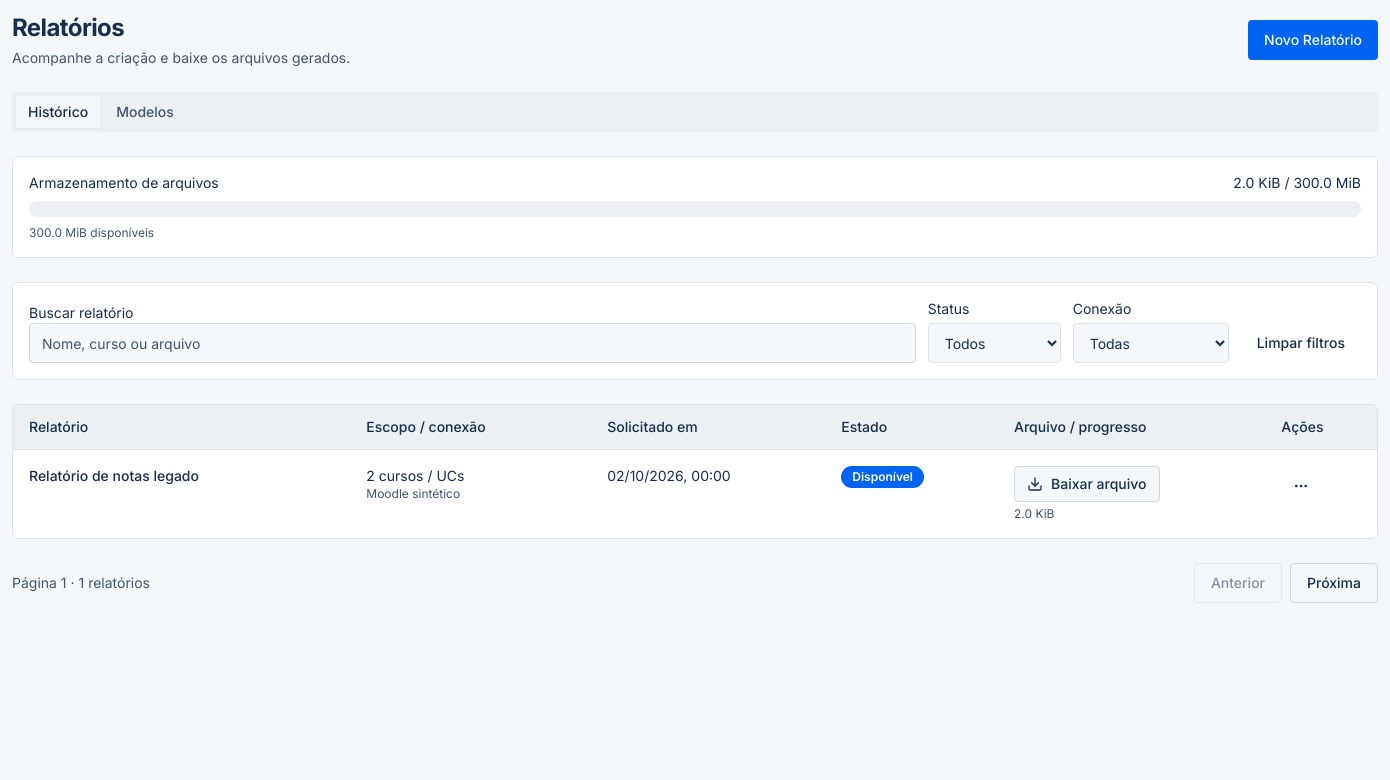
Test case: histórico privado › paginates on the server and resets the page when status, search or connection changes
This screenshot has width=1390, height=780.
Check: the text "Relatório de notas legado" is shown, box 29,467 -> 199,484
Click the button "Próxima" at (1334, 583), box 1290,563 -> 1378,603
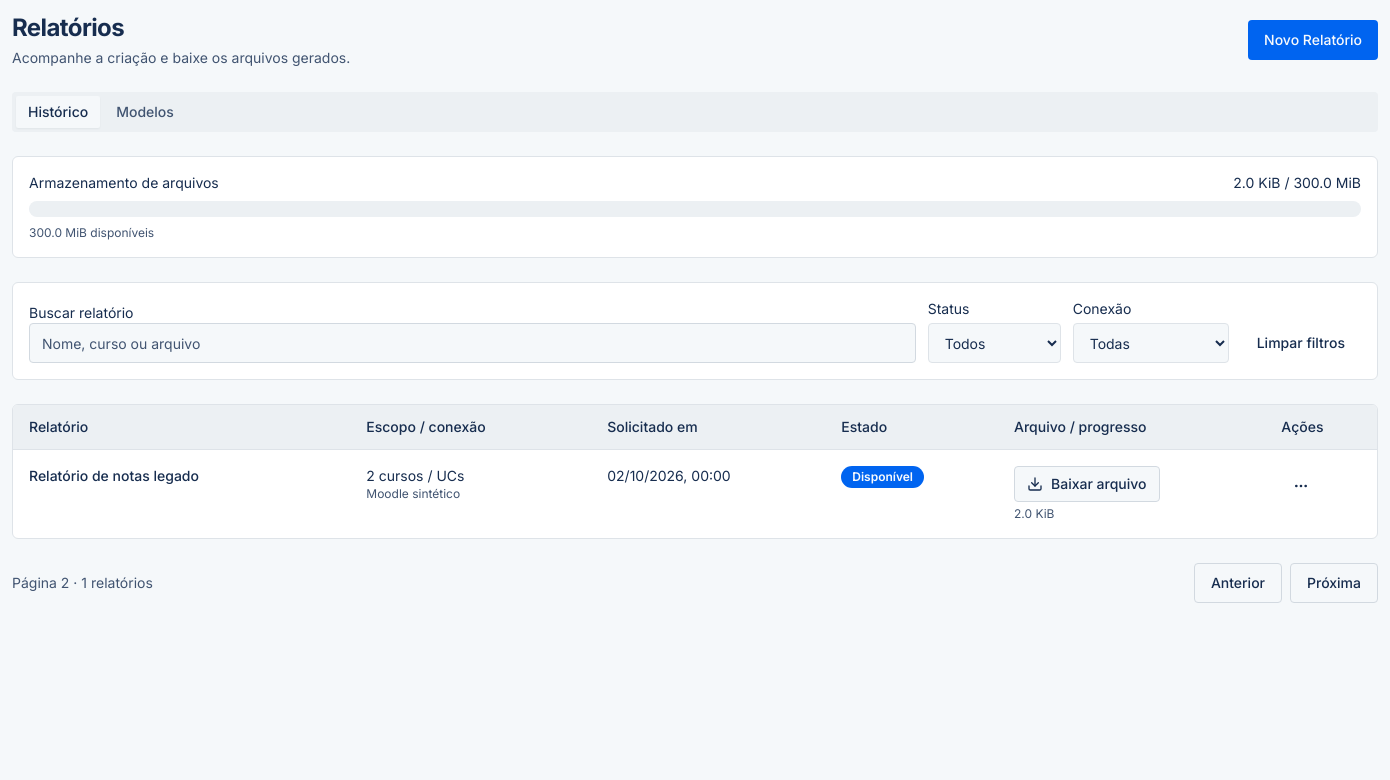
Select "Falhou" in the dropdown labelled "Status" at (994, 343), box 928,323 -> 1061,363
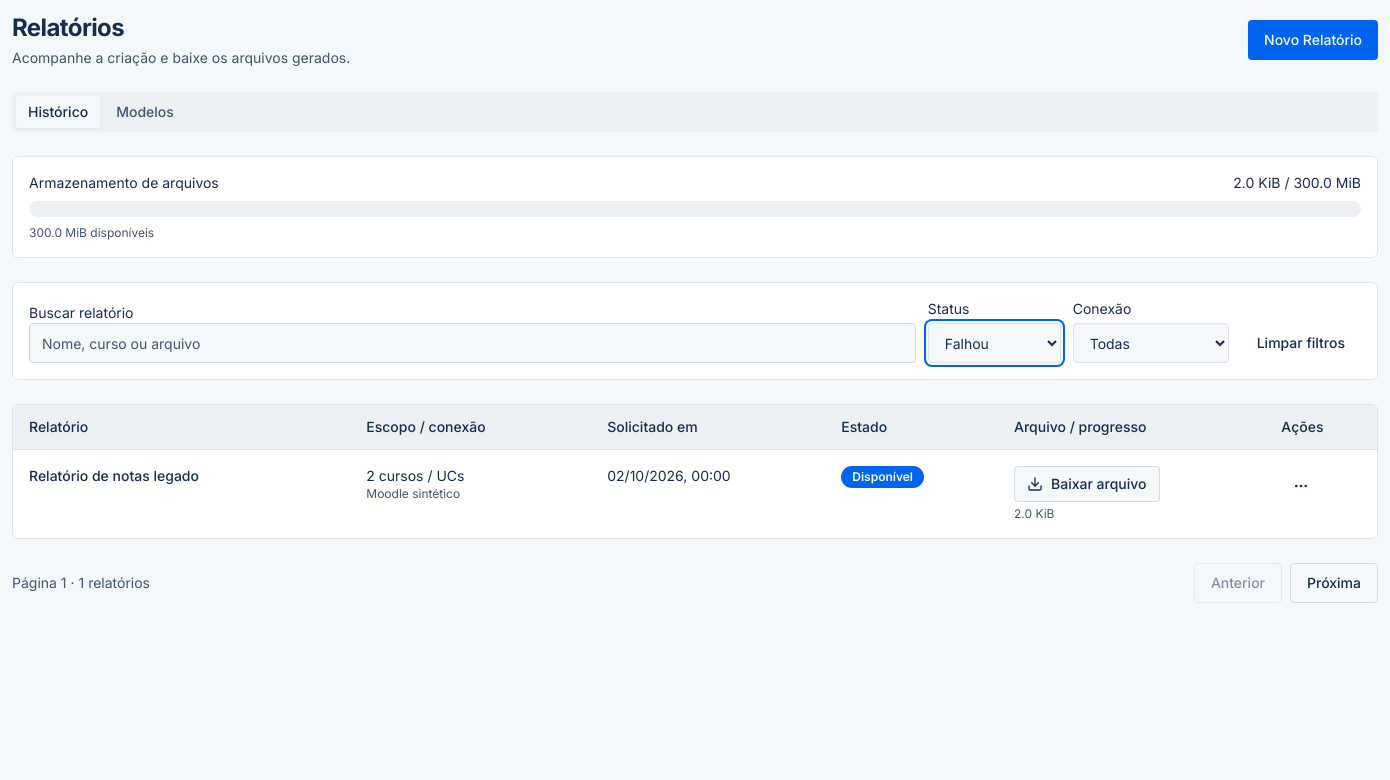
Type "Modelo" into the search field labelled "Buscar relatório" at (472, 343), box 29,323 -> 916,363
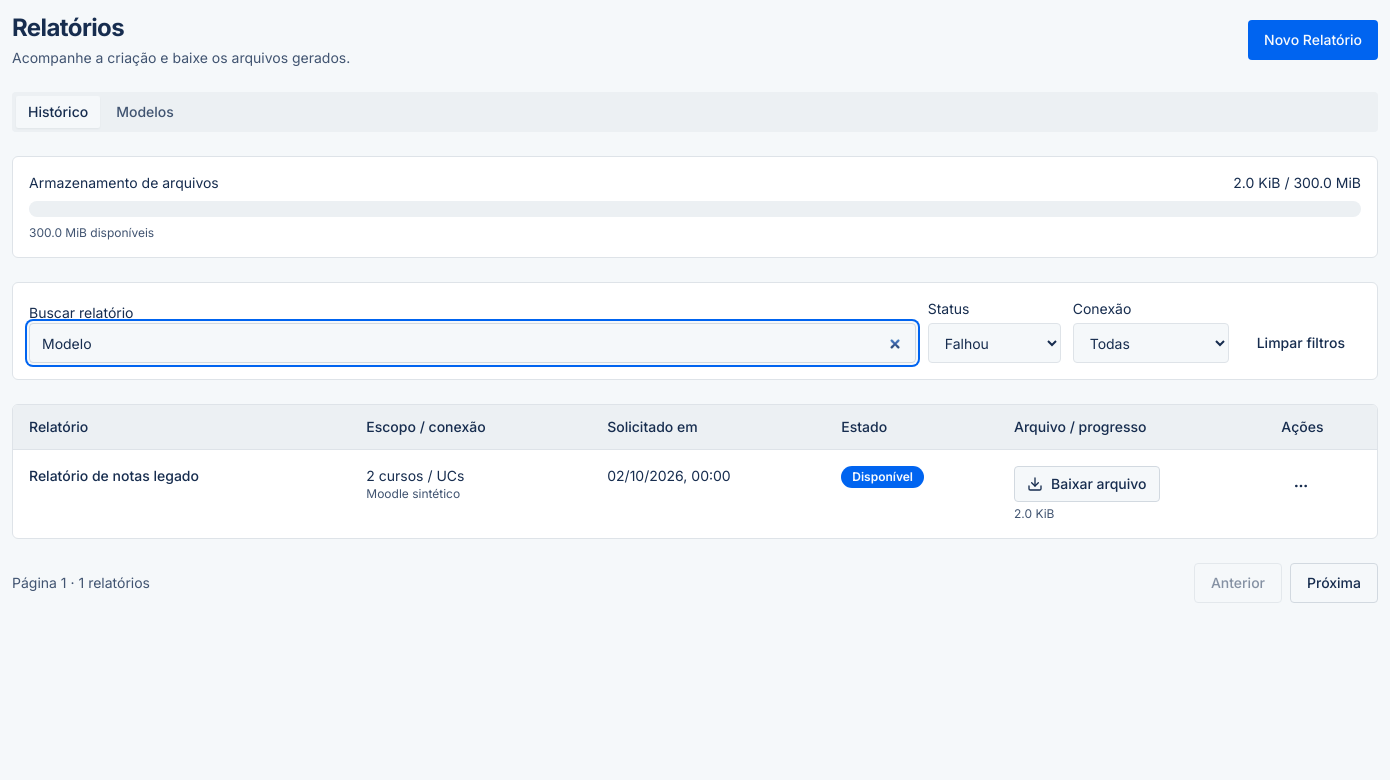
Select "Moodle sintético" in the dropdown labelled "Conexão" at (1151, 343), box 1073,323 -> 1229,363
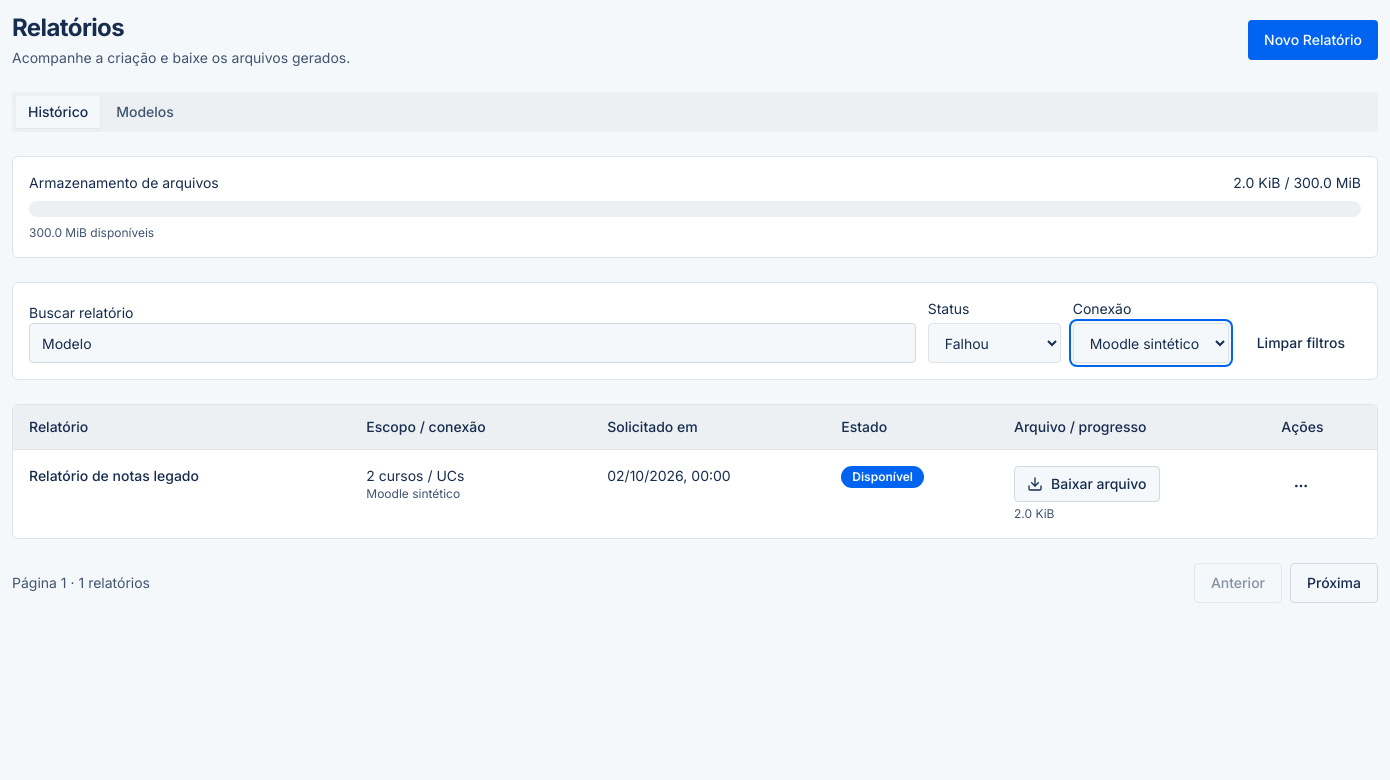
Click the button "Limpar filtros" at (1301, 343), box 1241,323 -> 1361,363
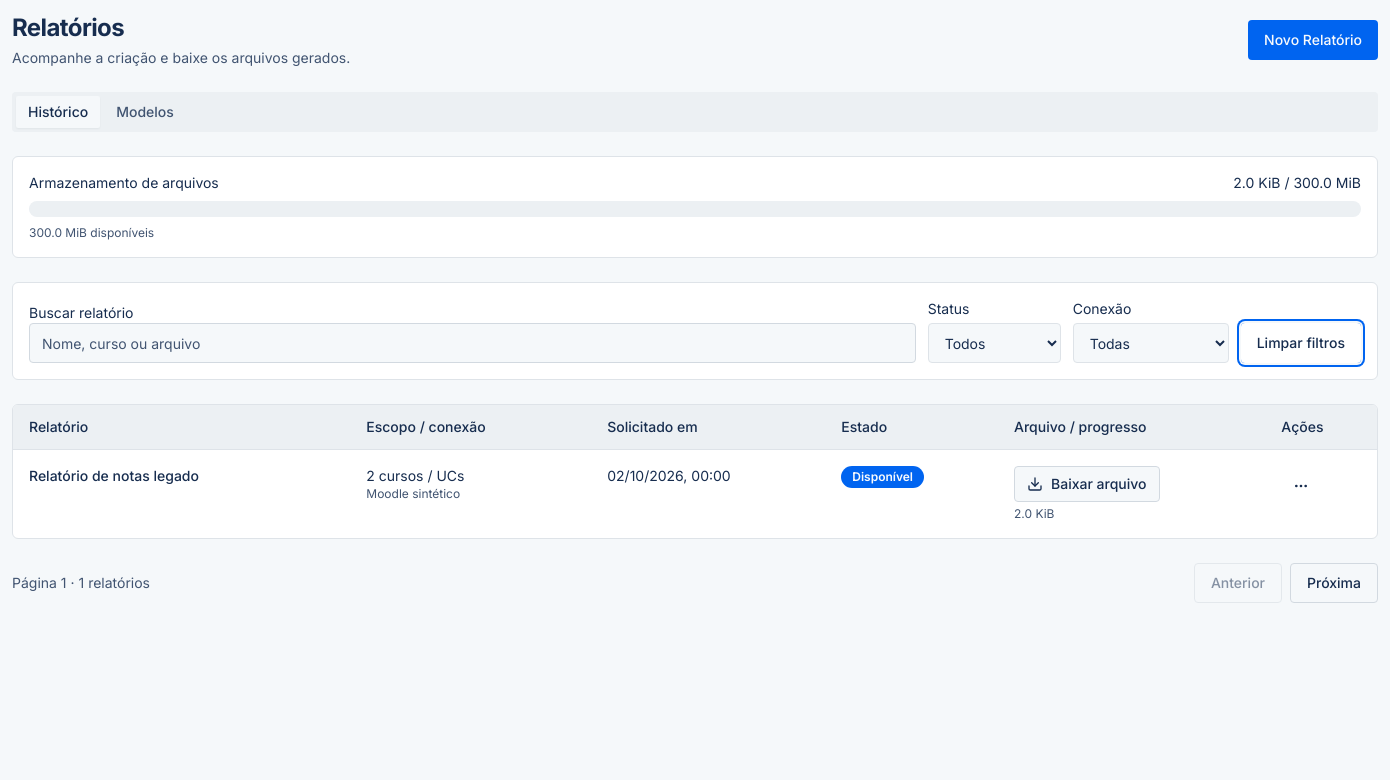
Check: the search field labelled "Buscar relatório" is empty, box 29,323 -> 916,363
